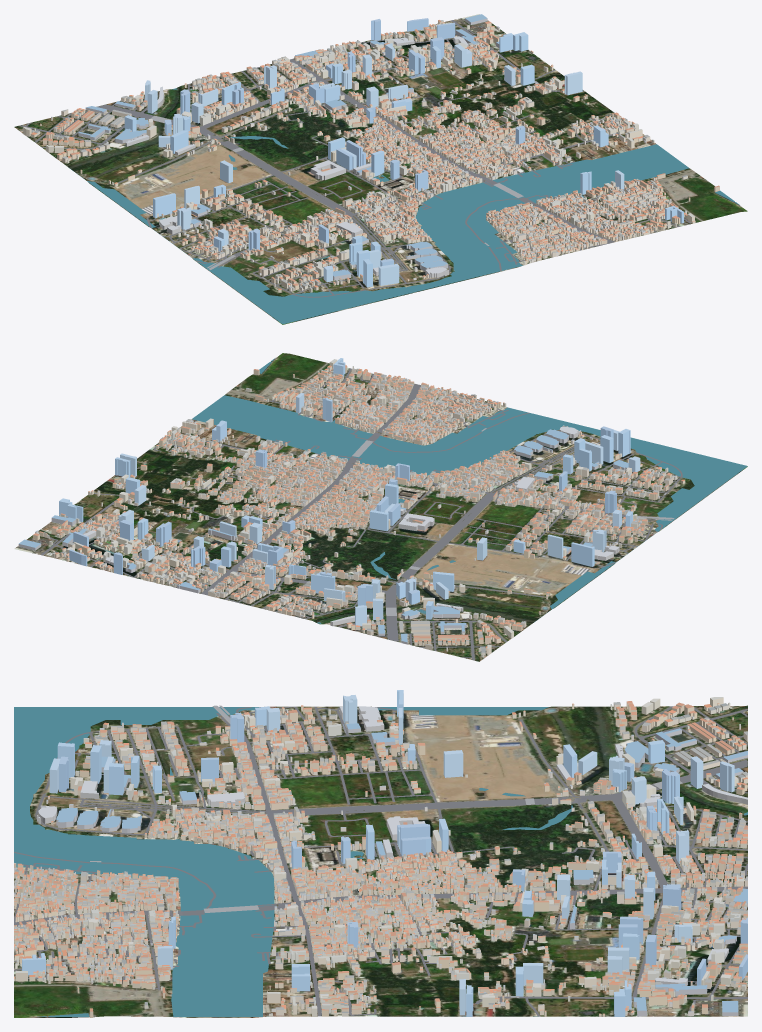
3 views of the same model, one above another, from view 1: azimuth 30°, elevation 25°; view 2: azimuth 150°, elevation 25°; view 3: azimuth 270°, elevation 25° (orthographic). The views are drawn at different scales.
Parts seen in each view (by area): view 1: TERRAIN, BLDG_TUBE_SHOPHOUSE, WATER, BLDG_MODERN_TOWER, ROAD_METRO, BLDG_VILLA, BLDG_INDUSTRIAL_PORT, BLDG_APARTMENT; view 2: TERRAIN, BLDG_TUBE_SHOPHOUSE, WATER, BLDG_MODERN_TOWER, ROAD_METRO, BLDG_VILLA, BLDG_INDUSTRIAL_PORT, BLDG_APARTMENT; view 3: TERRAIN, BLDG_TUBE_SHOPHOUSE, WATER, BLDG_MODERN_TOWER, ROAD_METRO, BLDG_VILLA, BLDG_INDUSTRIAL_PORT, BLDG_APARTMENT.
Part boxes in pixels (bbox=[...]): TERRAIN: bbox=[14, 14, 747, 324]; BLDG_TUBE_SHOPHOUSE: bbox=[22, 20, 719, 292]; WATER: bbox=[68, 88, 739, 324]; BLDG_MODERN_TOWER: bbox=[124, 18, 683, 287]; ROAD_METRO: bbox=[19, 20, 690, 297]; BLDG_VILLA: bbox=[30, 24, 687, 292]; BLDG_INDUSTRIAL_PORT: bbox=[78, 14, 499, 280]; BLDG_APARTMENT: bbox=[23, 24, 694, 276]; TERRAIN: bbox=[14, 353, 747, 661]; BLDG_TUBE_SHOPHOUSE: bbox=[33, 365, 677, 656]; WATER: bbox=[192, 358, 747, 623]; BLDG_MODERN_TOWER: bbox=[59, 358, 640, 626]; ROAD_METRO: bbox=[40, 368, 682, 660]; BLDG_VILLA: bbox=[59, 365, 685, 655]; BLDG_INDUSTRIAL_PORT: bbox=[18, 425, 628, 644]; BLDG_APARTMENT: bbox=[66, 359, 637, 655]; TERRAIN: bbox=[14, 705, 747, 1017]; BLDG_TUBE_SHOPHOUSE: bbox=[14, 701, 747, 1017]; WATER: bbox=[14, 707, 747, 1016]; BLDG_MODERN_TOWER: bbox=[22, 690, 747, 1016]; ROAD_METRO: bbox=[14, 705, 747, 1016]; BLDG_VILLA: bbox=[14, 703, 747, 1016]; BLDG_INDUSTRIAL_PORT: bbox=[37, 706, 747, 1016]; BLDG_APARTMENT: bbox=[15, 697, 744, 1016].
Bounding box in the file's own units: 2000 × 99.63 × 2000.
8 materials, 1 textured.
